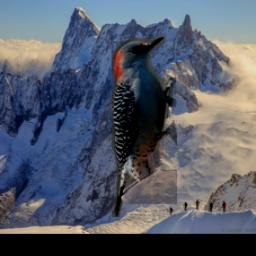Woodpecker: (112, 30, 177, 217)
